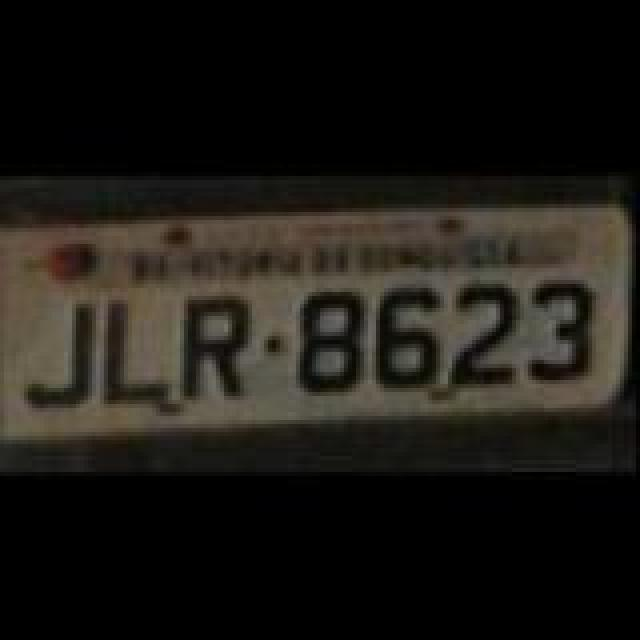2: (450, 278, 522, 390)
3: (520, 266, 596, 386)
6: (370, 276, 442, 388)
8: (298, 282, 370, 398)
J: (26, 294, 98, 410)
L: (100, 296, 176, 412)
R: (174, 286, 254, 406)
